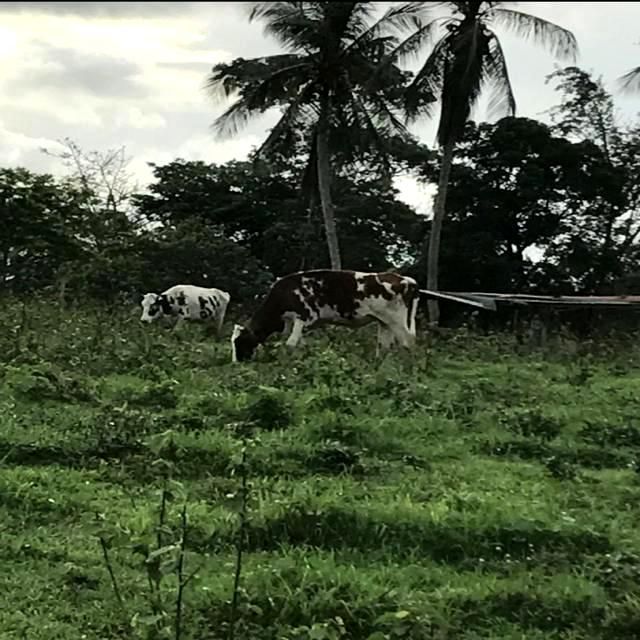COW: (231, 270, 418, 361)
